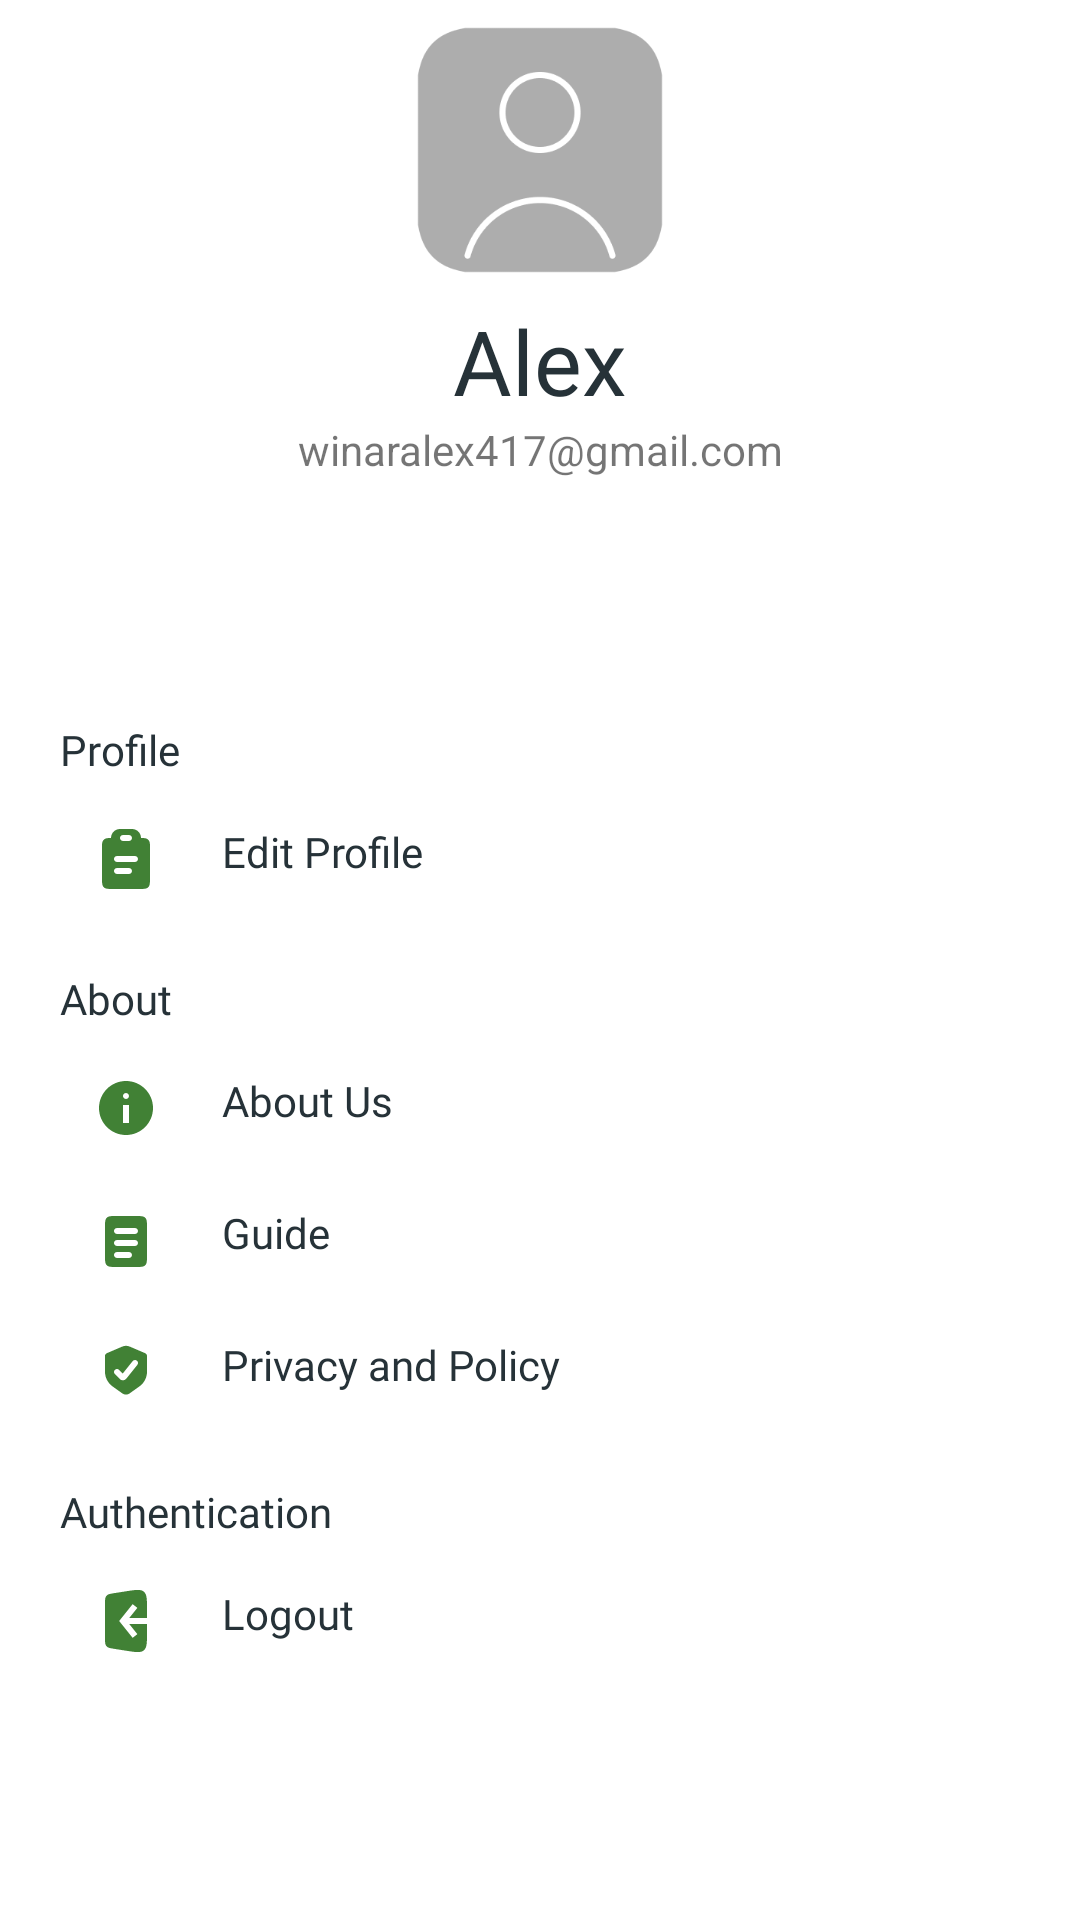

Icon bounding boxes for this 1080×1920 phone screenshot, format [x1,y1,x2,y2]:
user: [418,28,662,272]
